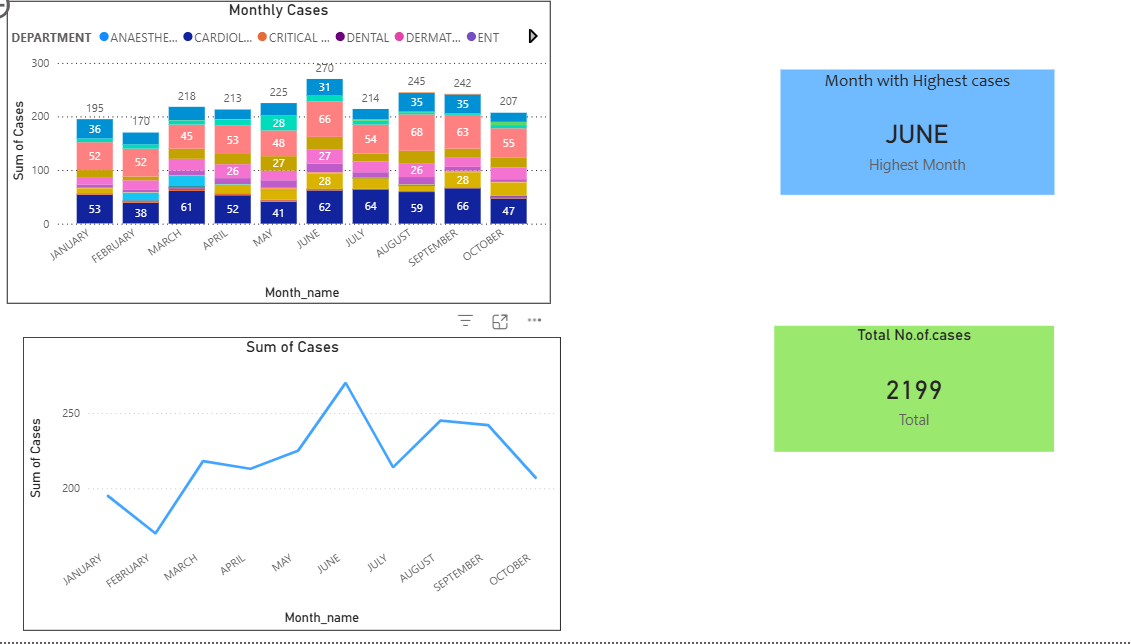

What the dashboard file says about the page in this screenshot:
{"tool":"powerbi","page":{"name":"Cases Count","canvas":[1280,720],"ordinal":0},"visuals":[{"type":"columnChart","title":"Monthly Cases","fields":{"Series":["Sheet1 (2).DEPARTMENT"],"Y":["Sum(Sheet1 (2).Value)"],"Category":["Sheet1 (2).Month_name"]},"box":[31.6,15.1,596.9,333.4],"z":0},{"type":"card","title":"Month with Highest cases","fields":{"Values":["Sheet1 (2).Peak Month"]},"box":[881,90.6,300.5,137.2],"z":1},{"type":"card","title":"Total No.of.cases","fields":{"Values":["Sheet1 (2).Total"]},"box":[874.1,371.9,307.4,138.6],"z":2},{"type":"actionButton","box":[0,0,100,40],"z":4},{"type":"lineChart","title":"Sum of Cases ","fields":{"Category":["Admissions.Month_name"],"Y":["Sum(Admissions.Cases)"]},"box":[49.4,384.2,590.1,322.5],"z":5}]}

Visuals, with their boxes in screenshot pixels (x1, y1, x2, y2), scaled from the page's 1280x720 canvas onto the 1131x644 screenshot:
"Monthly Cases" columnChart: (left=28, top=14, right=555, bottom=312)
"Month with Highest cases" card: (left=778, top=81, right=1044, bottom=204)
"Total No.of.cases" card: (left=772, top=333, right=1044, bottom=457)
actionButton: (left=0, top=0, right=88, bottom=36)
"Sum of Cases " lineChart: (left=44, top=344, right=565, bottom=632)
